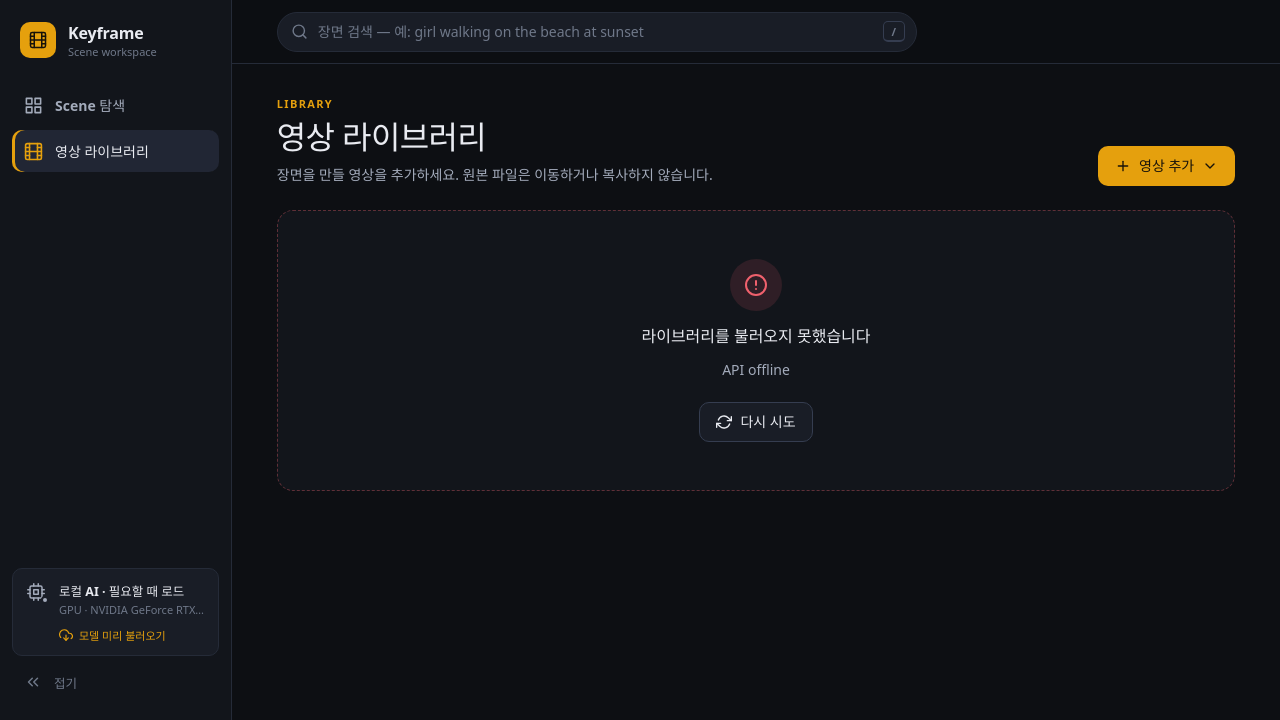
Scenario: 영상 라이브러리 › shows a retryable error when the library cannot be loaded
The width and height of the screenshot is (1280, 720).
expect the message shows "API offline": met, box left=722, top=360, right=790, bottom=379
Click the button "다시 시도".
click(756, 422)  # box left=699, top=402, right=813, bottom=442
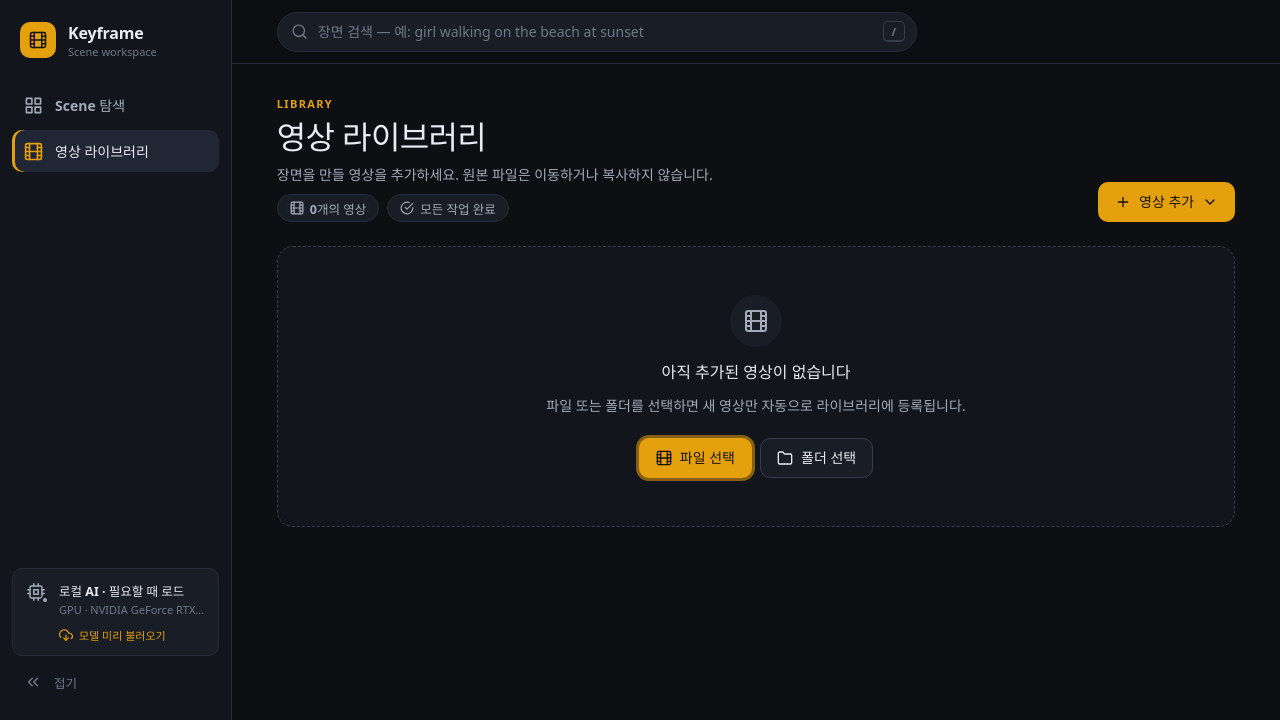
expect the heading "아직 추가된 영상이 없습니다" is shown: met, box left=661, top=359, right=850, bottom=383
